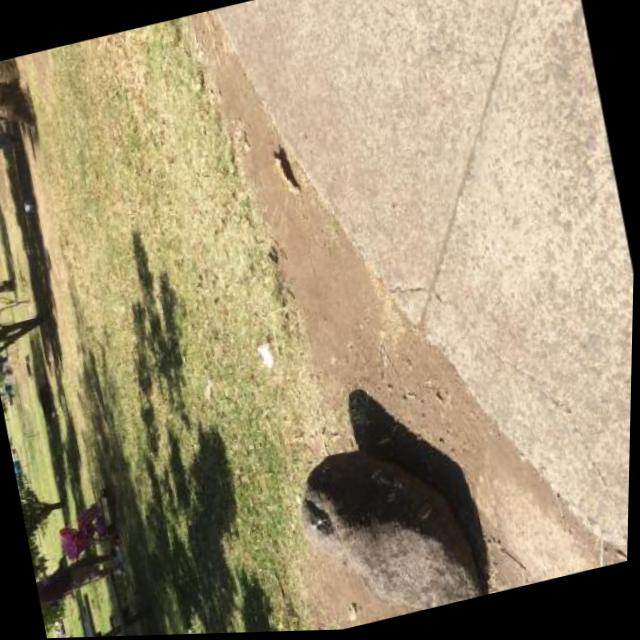cardboard: (258, 340, 277, 369)
